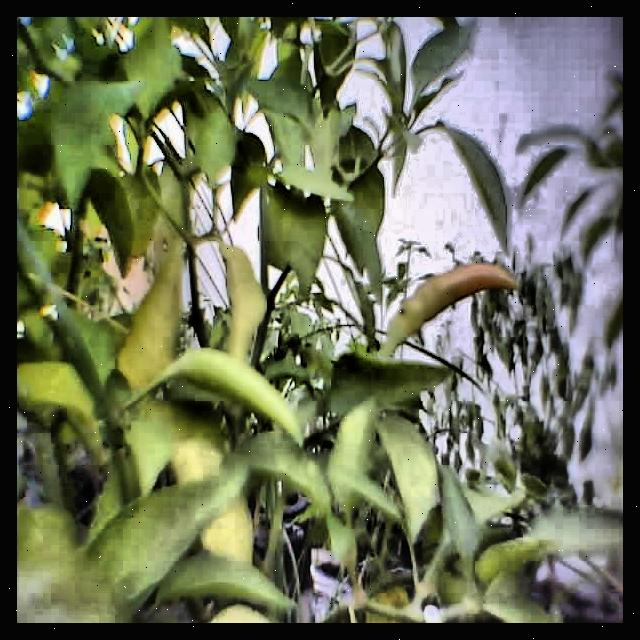Cabai: (383, 259, 513, 358)
